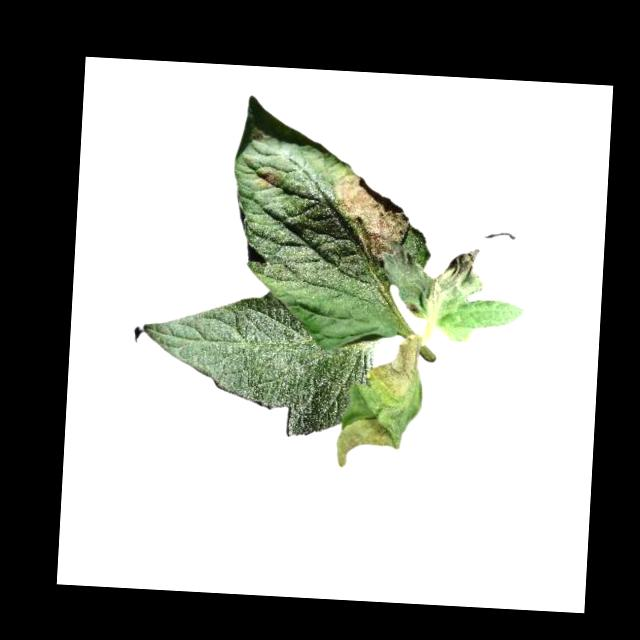Late_blight: (378, 243, 485, 324), (330, 172, 411, 269), (334, 402, 407, 471), (366, 329, 423, 406), (256, 167, 285, 191)
healthy: (138, 283, 378, 440)
